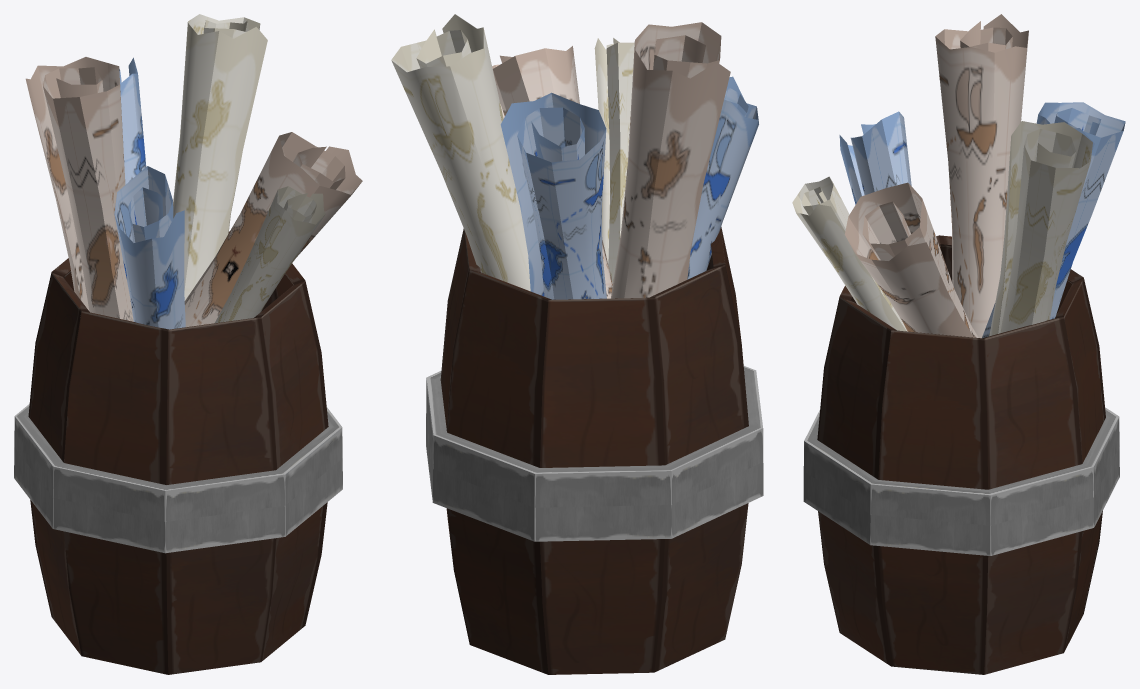
Rendered from Maps.fbx.
3 views of the same model, side by side, from view 1: azimuth 30°, elevation 25°; view 2: azimuth 150°, elevation 25°; view 3: azimuth 270°, elevation 25° (orthographic). The views are drawn at different scales.
Parts seen in each view (by area): view 1: maps; view 2: maps; view 3: maps.
Part boxes in pixels (<box>): maps: <box>14,14,362,674</box>; maps: <box>391,14,763,674</box>; maps: <box>792,14,1125,674</box>.
Bounding box in the file's own units: 144 × 275 × 151.
